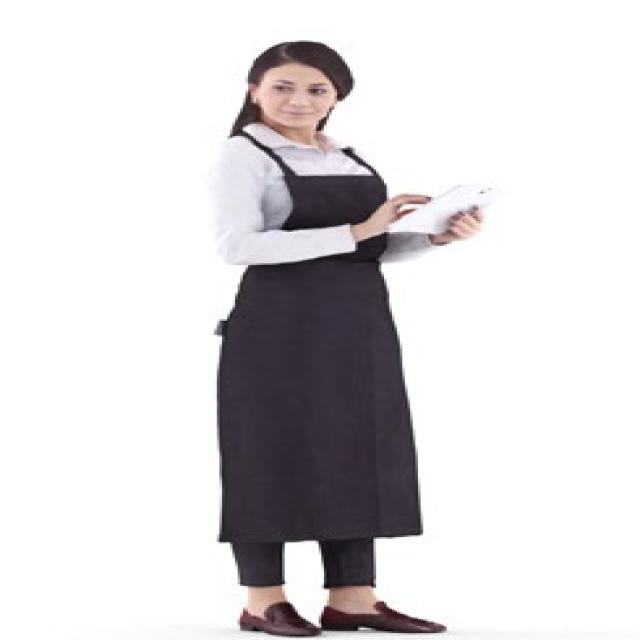standing: (206, 39, 509, 640)
